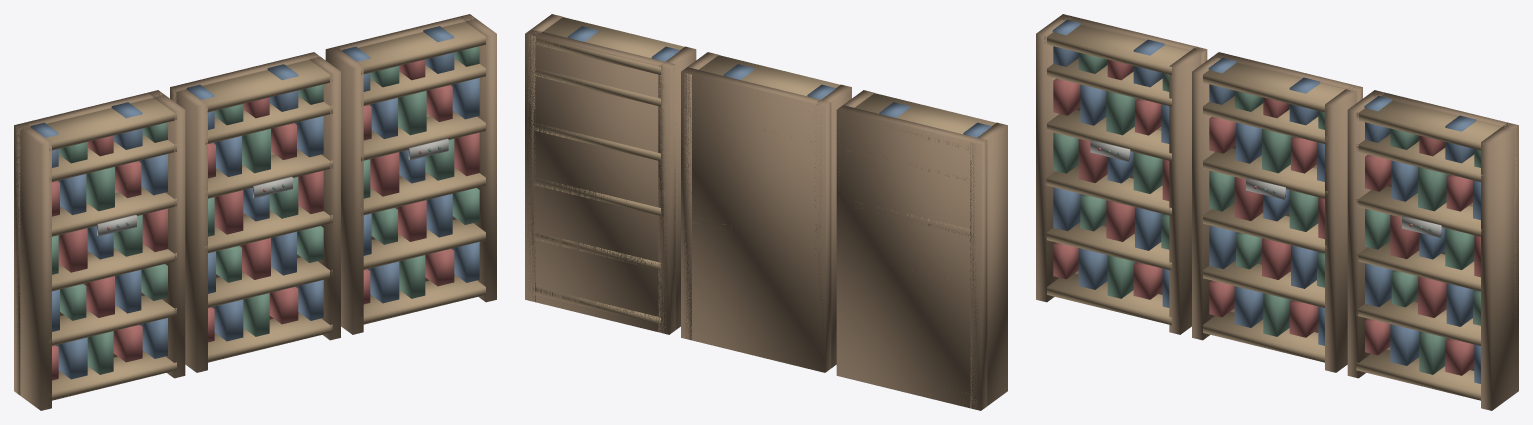
Rendered from library_stack_bay__cluster.glb.
The picture shows the model from 3 angles, left to right: view 1: azimuth 30°, elevation 25°; view 2: azimuth 150°, elevation 25°; view 3: azimuth 330°, elevation 25°; orthographic projection.
Visible parts, largest first — view 1: world; view 2: world; view 3: world.
Boxes of the visible parts, x1,y1,x2,y2 form: world: (14,14,496,410); world: (525,14,1007,410); world: (1036,14,1518,410).
Bounding box in the file's own units: 3.32 × 1.86 × 0.371.
